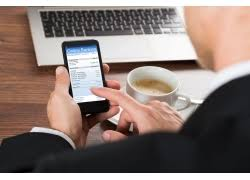mobil: (64, 37, 111, 115)
